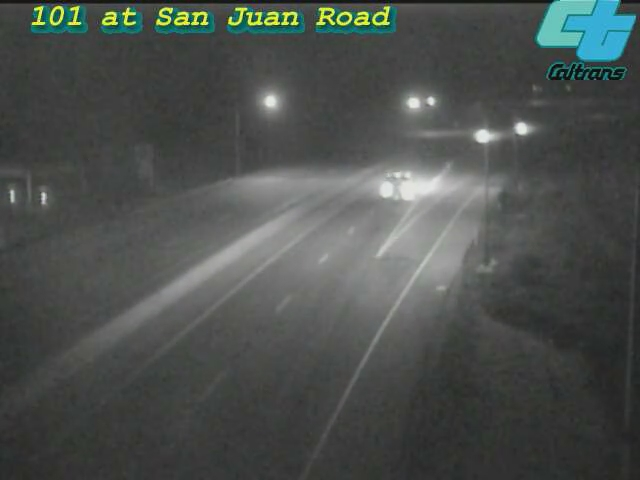vehicle: (362, 144, 442, 224), (498, 103, 548, 153), (460, 111, 510, 161)
